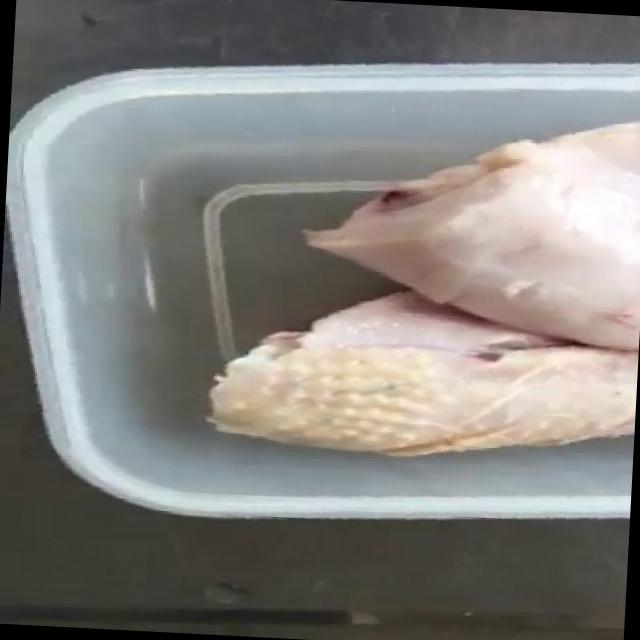chicken: (203, 80, 640, 470)
